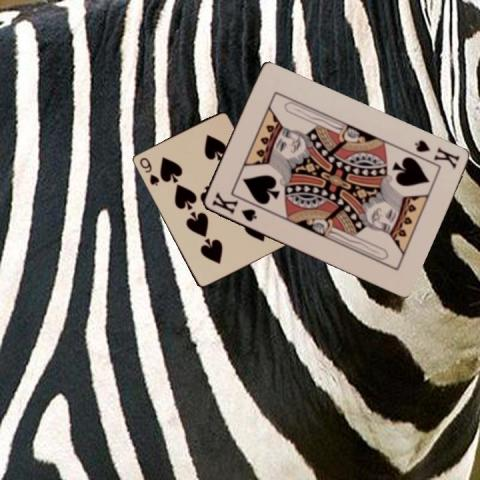9s: (136, 155, 161, 187)
Ks: (410, 136, 461, 170), (209, 190, 258, 224)
